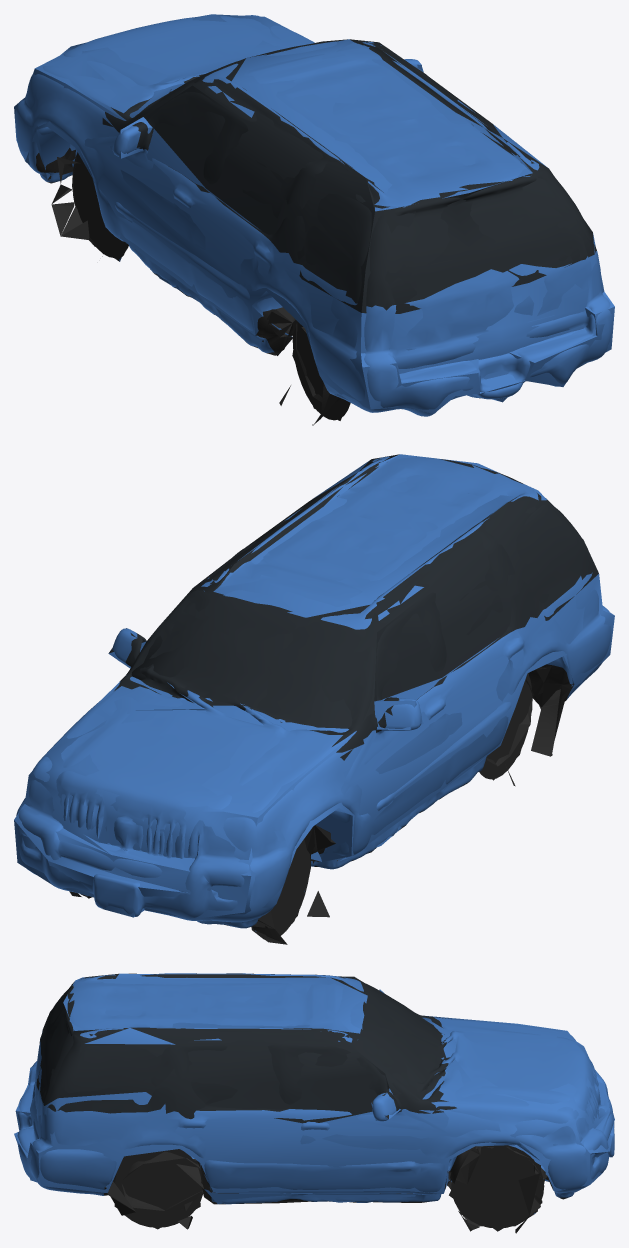
File: mercury-mountaineer.glb
The picture shows the model from 3 angles, top to bottom: view 1: azimuth 30°, elevation 25°; view 2: azimuth 150°, elevation 25°; view 3: azimuth 270°, elevation 25°; orthographic projection. The views are drawn at different scales.
Visible parts, largest first — view 1: body, far; view 2: body, far; view 3: body, far.
Boxes of the visible parts, x1=… form: body: x1=15, y1=15, x2=612, y2=425; far: x1=14, y1=14, x2=614, y2=420; body: x1=16, y1=456, x2=611, y2=944; far: x1=14, y1=454, x2=614, y2=944; body: x1=17, y1=973, x2=614, y2=1233; far: x1=14, y1=973, x2=614, y2=1231.
Size of the model in its own units: 2.27 by 1.81 by 5.
